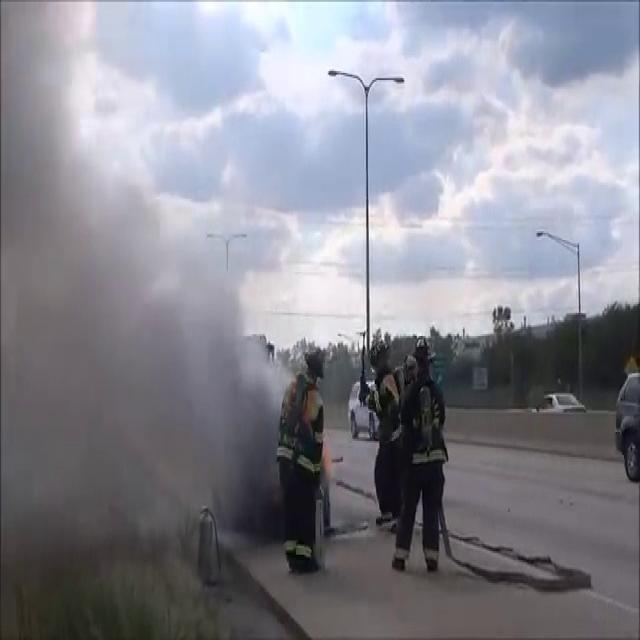Smoke: (1, 29, 292, 558)
